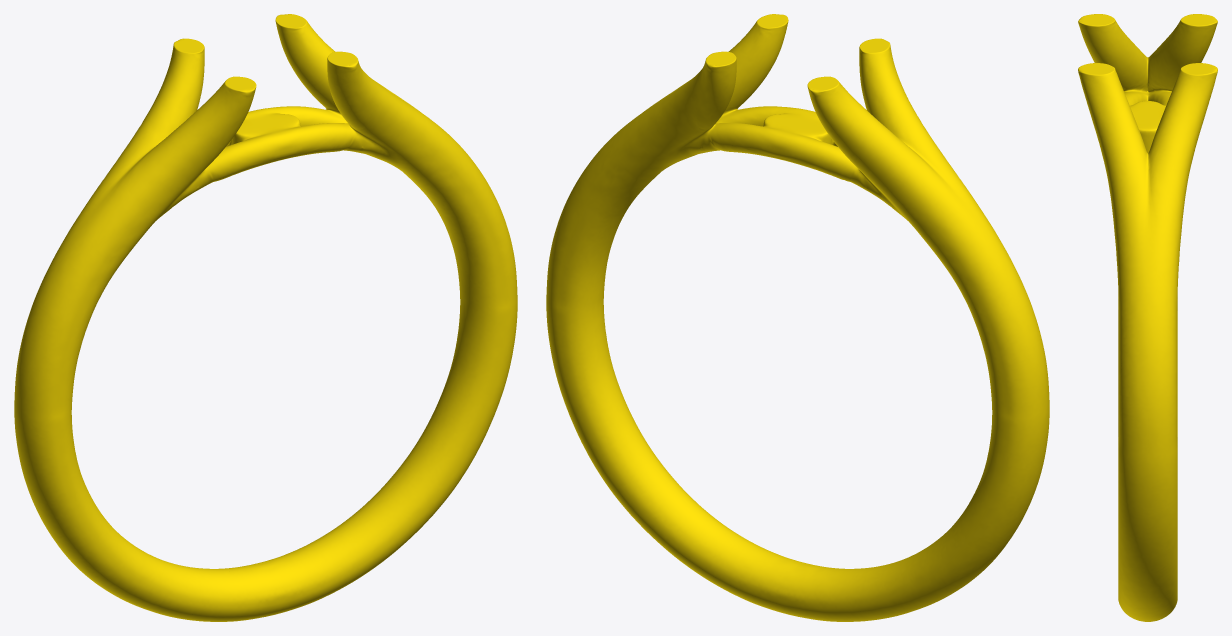
Rendered from Shank_Split_Plain Gold_B_No, Hidden Halo_Band.glb.
The picture shows the model from 3 angles, left to right: view 1: azimuth 30°, elevation 25°; view 2: azimuth 150°, elevation 25°; view 3: azimuth 270°, elevation 25°; orthographic projection.
Size of the model in its own units: 0.0215 by 0.0232 by 0.00534.
